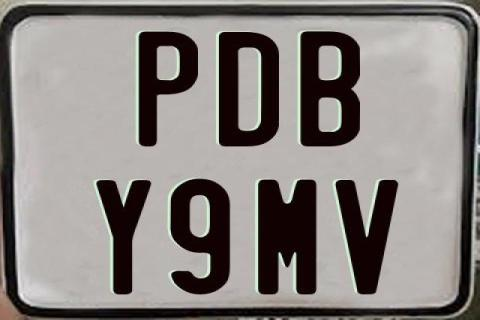0: (169, 178, 234, 296)
B: (301, 30, 362, 150)
D: (219, 30, 285, 144)
M: (258, 177, 323, 295)
P: (139, 30, 201, 148)
V: (332, 180, 399, 296)
Y: (96, 180, 153, 294)
